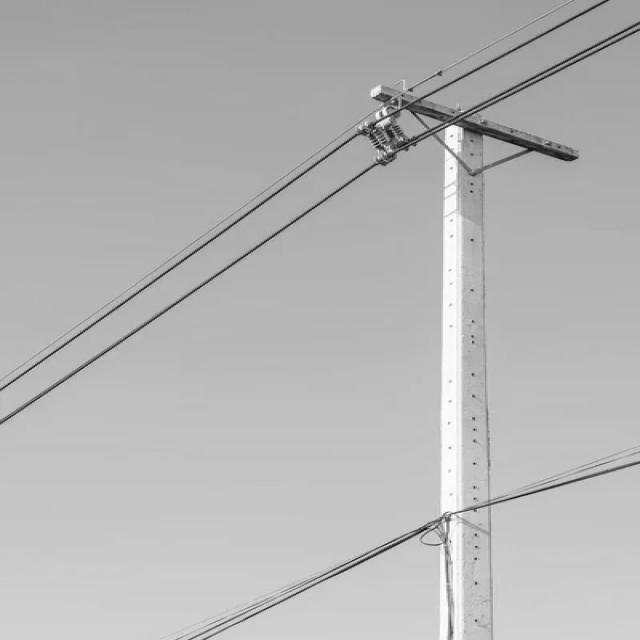Pole: (440, 91, 493, 639)
